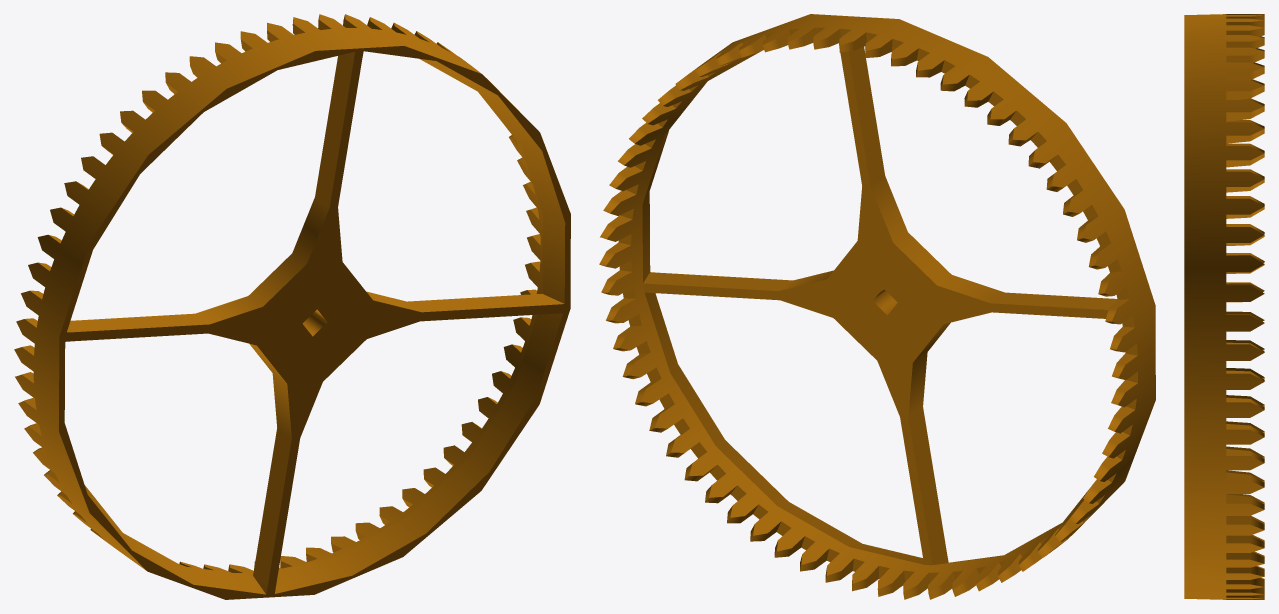
Rendered from Copie de Roue Ass 01^Copie de Assemblage01_Horloge Comtoise Verge - Sonnerie.obj.
3 renders of one model, left to right at view 1: azimuth 30°, elevation 25°; view 2: azimuth 150°, elevation 25°; view 3: azimuth 270°, elevation 25°, orthographic. The views are drawn at different scales.
Parts seen in each view (by area): view 1: Face_2, Face_1, Face_317, Face_330, Face_326, Face_315, Face_325, Face_314, Face_322, Face_327, Face_316, Face_324; view 2: Face_1, Face_333, Face_330, Face_317, Face_315, Face_325, Face_314, Face_327, Face_316, Face_324, Face_326; view 3: Face_1, Face_330, Face_308, Face_90, Face_85, Face_3, Face_8, Face_80, Face_303, Face_13, Face_75, Face_95 (+5 smaller).
Part boxes in pixels (left/top/right/bottom): Face_2: left=59, top=46, right=570, bottom=599; Face_1: left=14, top=14, right=519, bottom=570; Face_317: left=275, top=313, right=562, bottom=593; Face_330: left=179, top=129, right=542, bottom=575; Face_326: left=420, top=59, right=565, bottom=303; Face_315: left=195, top=197, right=329, bottom=324; Face_325: left=253, top=428, right=291, bottom=585; Face_314: left=315, top=54, right=353, bottom=207; Face_322: left=84, top=485, right=265, bottom=594; Face_327: left=407, top=293, right=556, bottom=312; Face_316: left=68, top=313, right=208, bottom=332; Face_324: left=249, top=343, right=291, bottom=438; Face_1: left=695, top=14, right=1155, bottom=556; Face_333: left=643, top=43, right=1108, bottom=565; Face_330: left=606, top=51, right=1089, bottom=592; Face_317: left=645, top=292, right=923, bottom=564; Face_315: left=870, top=176, right=1004, bottom=303; Face_325: left=908, top=407, right=947, bottom=564; Face_314: left=848, top=47, right=885, bottom=186; Face_327: left=643, top=272, right=792, bottom=291; Face_316: left=991, top=292, right=1117, bottom=309; Face_324: left=908, top=322, right=950, bottom=417; Face_326: left=642, top=130, right=668, bottom=282; Face_1: left=1184, top=14, right=1264, bottom=599; Face_330: left=1226, top=229, right=1264, bottom=578; Face_308: left=1226, top=72, right=1250, bottom=80; Face_90: left=1226, top=535, right=1250, bottom=543; Face_85: left=1226, top=516, right=1250, bottom=524; Face_3: left=1226, top=91, right=1250, bottom=99; Face_8: left=1226, top=112, right=1250, bottom=121; Face_80: left=1226, top=494, right=1250, bottom=503; Face_303: left=1226, top=55, right=1250, bottom=62; Face_13: left=1226, top=135, right=1250, bottom=143; Face_75: left=1226, top=472, right=1250, bottom=480; Face_95: left=1226, top=553, right=1250, bottom=559.
Bounding box in the file's own units: 0.0612 × 0.0612 × 0.0084.
